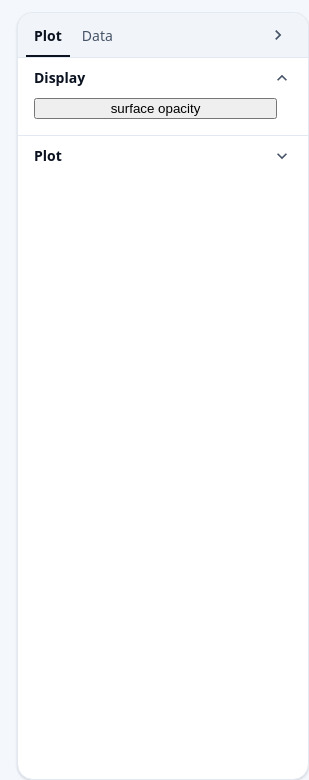
Inspector sections (ruling R24-3) › the drawer shows Plot . Data once, in its bar (final polish F5) › opening Plot and data from Display (the accordion) shows its panel with no inner row either
Click the 2nd button "Plot" at (163, 156), box [34,142,292,170]
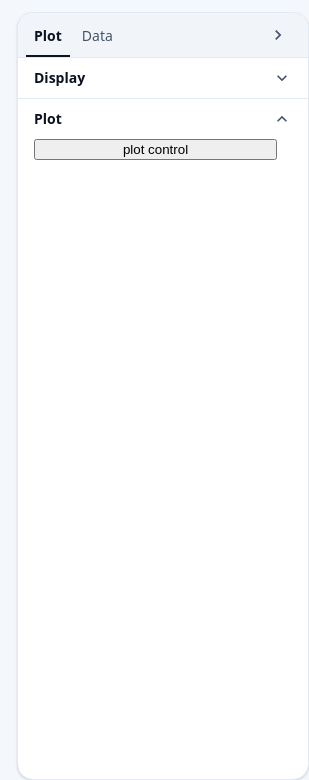
Expected: the button "Display" is collapsed, [34,64,292,92]
Expected: the element named "Plot panel" reads "plot control", [34,139,277,160]
